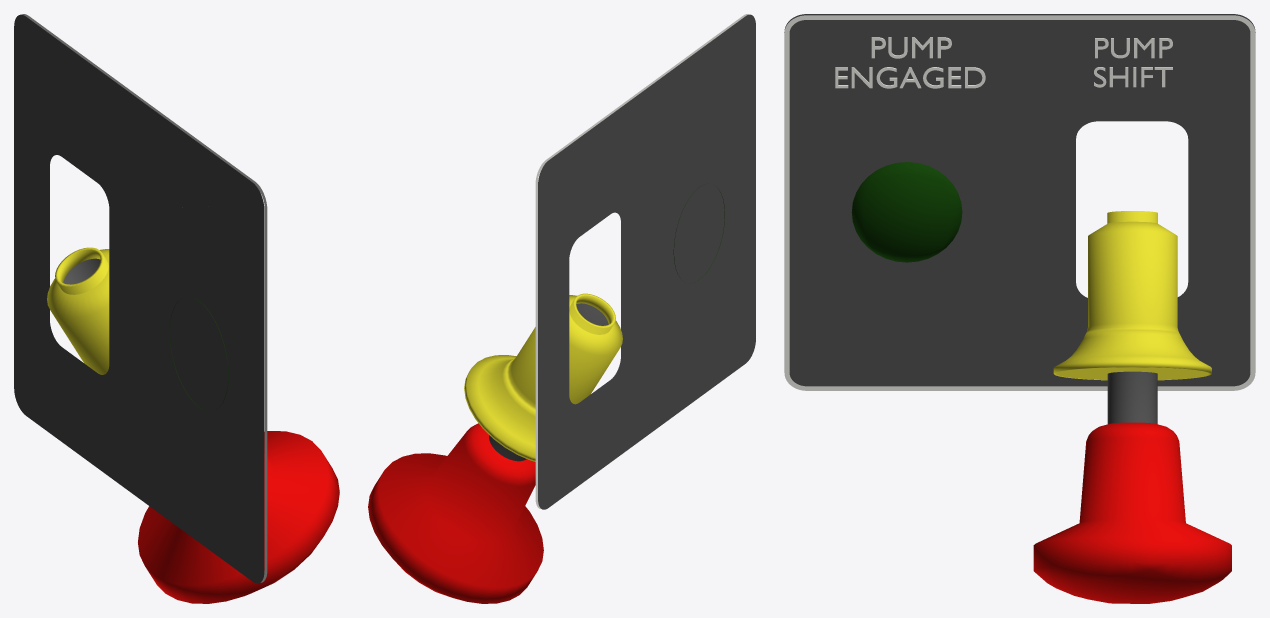
The model's file is PTO.glb.
3 renders of one model, left to right at view 1: azimuth 30°, elevation 25°; view 2: azimuth 150°, elevation 25°; view 3: azimuth 270°, elevation 25°, orthographic. The views are drawn at different scales.
Visible parts, largest first — view 1: Plane, Knob, Yellow Grip, White Border, Shaft; view 2: Plane, Knob, Yellow Grip, White Border, Shaft; view 3: Plane, Knob, Yellow Grip, LED, White Border, Shaft, PUMP ENGAGED text, PUMP SHIFT text.
Boxes of the visible parts, bbox=[...] form: Plane: bbox=[14, 14, 264, 583]; Knob: bbox=[138, 431, 339, 603]; Yellow Grip: bbox=[47, 247, 109, 374]; White Border: bbox=[22, 14, 267, 582]; Shaft: bbox=[63, 258, 100, 284]; Plane: bbox=[538, 14, 755, 509]; Knob: bbox=[368, 423, 543, 603]; Yellow Grip: bbox=[464, 293, 622, 461]; White Border: bbox=[535, 14, 748, 509]; Shaft: bbox=[489, 303, 608, 461]; Plane: bbox=[784, 14, 1255, 386]; Knob: bbox=[1033, 422, 1231, 603]; Yellow Grip: bbox=[1053, 211, 1211, 380]; LED: bbox=[851, 162, 962, 262]; White Border: bbox=[784, 15, 1255, 390]; Shaft: bbox=[1107, 371, 1157, 424]; PUMP ENGAGED text: bbox=[835, 37, 985, 88]; PUMP SHIFT text: bbox=[1094, 38, 1172, 87].
Size of the model in its own units: 1.52 by 3.03 by 2.44.
